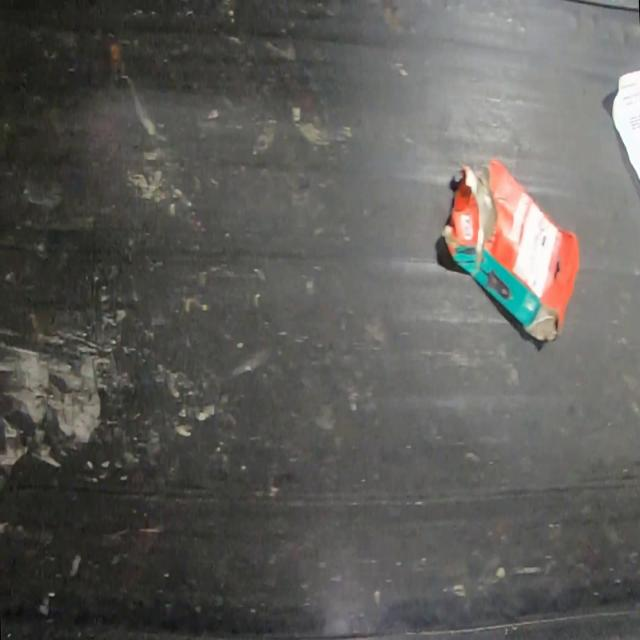cardboard: (440, 154, 578, 340)
